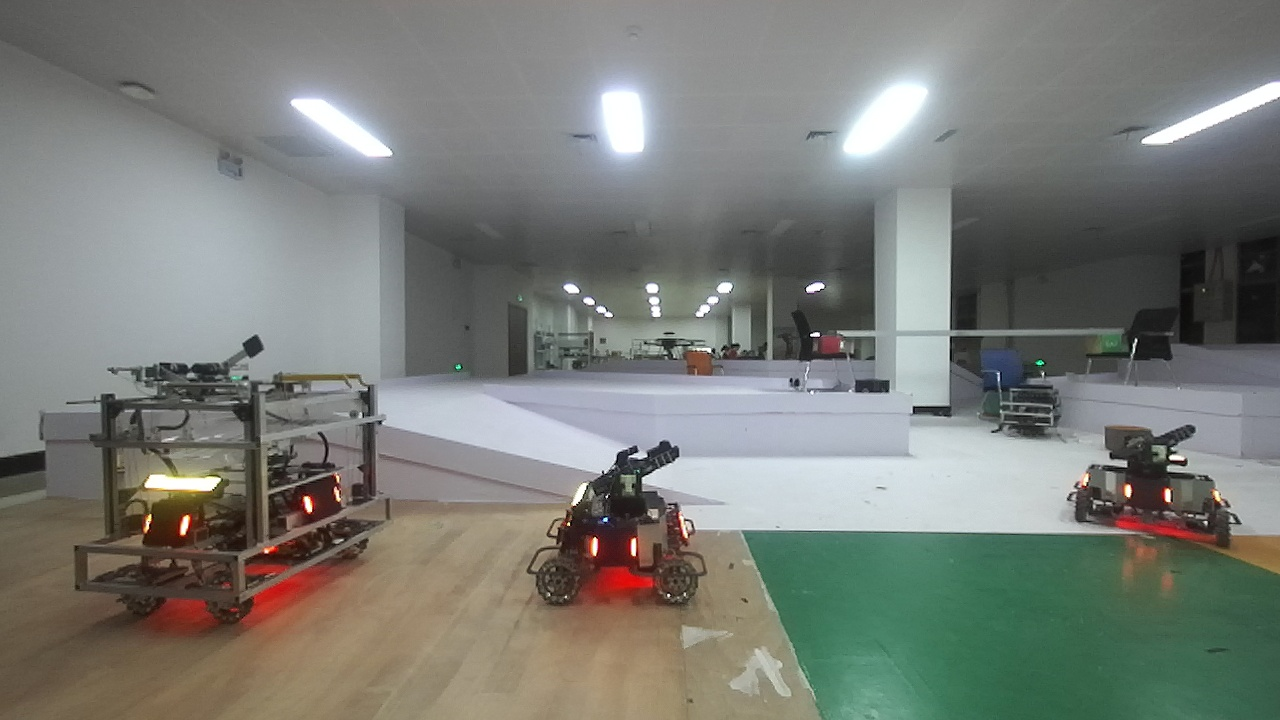car: (73, 345, 398, 631), (528, 434, 724, 620), (1055, 415, 1246, 543)
